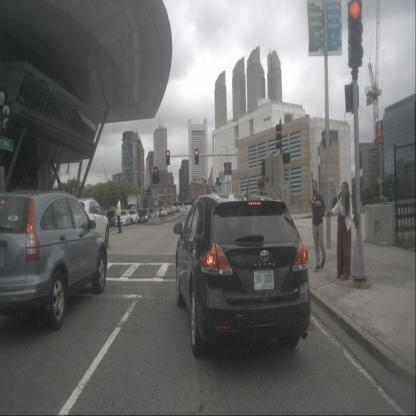human-pedestrian-adult: (327, 181, 356, 281), (309, 180, 326, 273)
vehicle-bus-rigid: (172, 201, 195, 214)
vehicle-car: (175, 194, 311, 358), (0, 190, 108, 330), (53, 198, 110, 252), (115, 210, 131, 227), (105, 210, 118, 226), (138, 208, 150, 224), (127, 210, 138, 224), (146, 207, 156, 220), (151, 208, 160, 219), (158, 208, 165, 217), (166, 208, 171, 216), (162, 208, 167, 216)
vehicle-truck: (127, 195, 143, 217)
